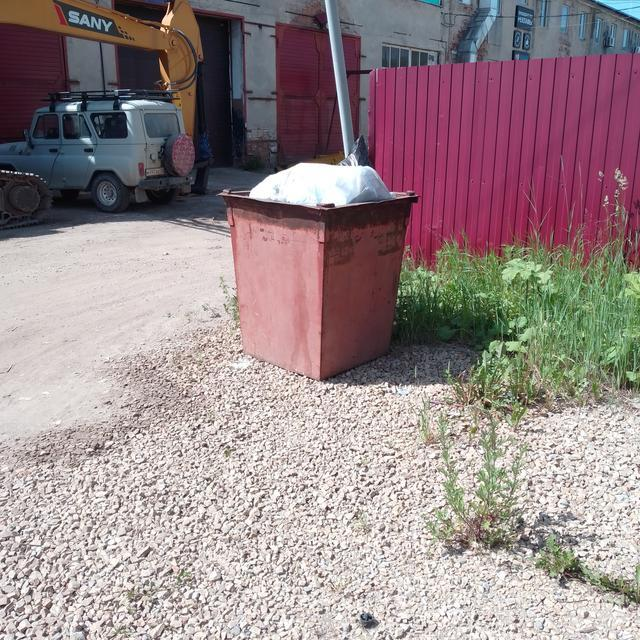Trash_Can_Full: (222, 162, 416, 379)
